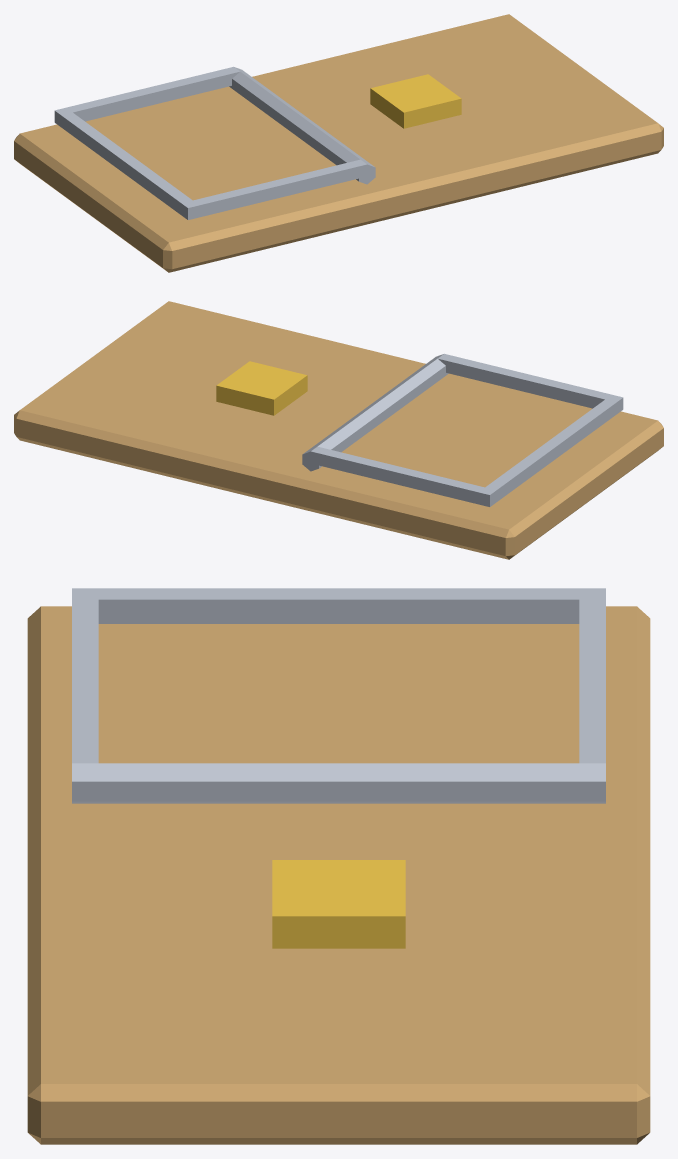
Rendered from mousetrap.glb.
The picture shows the model from 3 angles, top to bottom: view 1: azimuth 30°, elevation 25°; view 2: azimuth 150°, elevation 25°; view 3: azimuth 270°, elevation 25°; orthographic projection. The views are drawn at different scales.
Visible parts, largest first — view 1: mousetrap, bar; view 2: mousetrap, bar; view 3: mousetrap, bar.
Part boxes in pixels (<box>): mousetrap: <box>14,14,663,272</box>; bar: <box>54,66,367,219</box>; mousetrap: <box>14,301,663,559</box>; bar: <box>310,353,623,506</box>; mousetrap: <box>27,606,650,1144</box>; bar: <box>72,588,605,763</box>.
Bounding box in the file's own units: 0.26 × 0.026 × 0.14.
